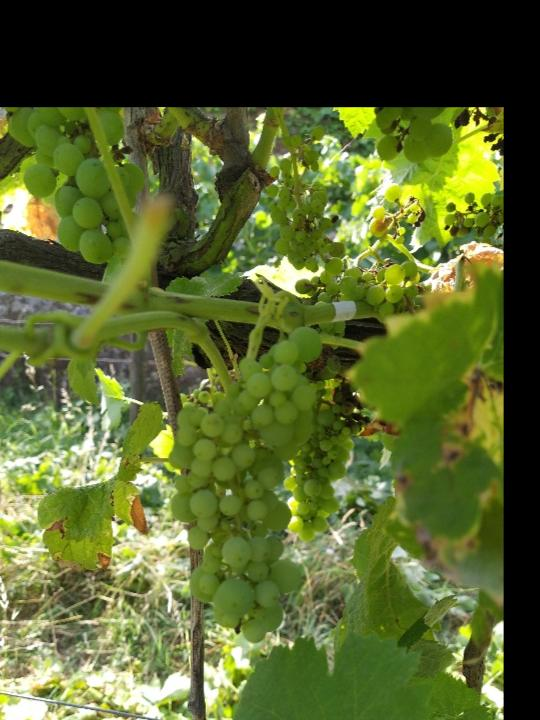grape: (165, 324, 327, 644), (291, 395, 357, 543)
